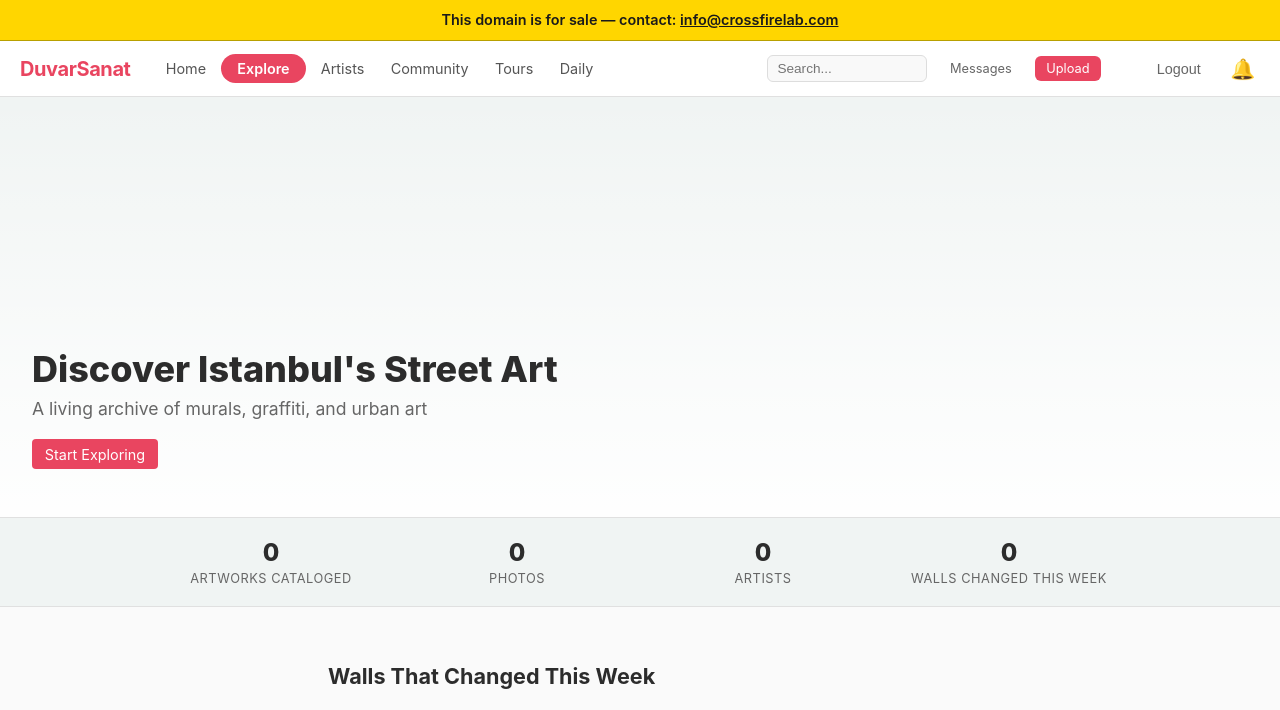
Test: Layout - authenticated › logs out when Logout button is clicked
Step 1. Click the button "Logout" → (1179, 69), box [1144,54,1213,83]
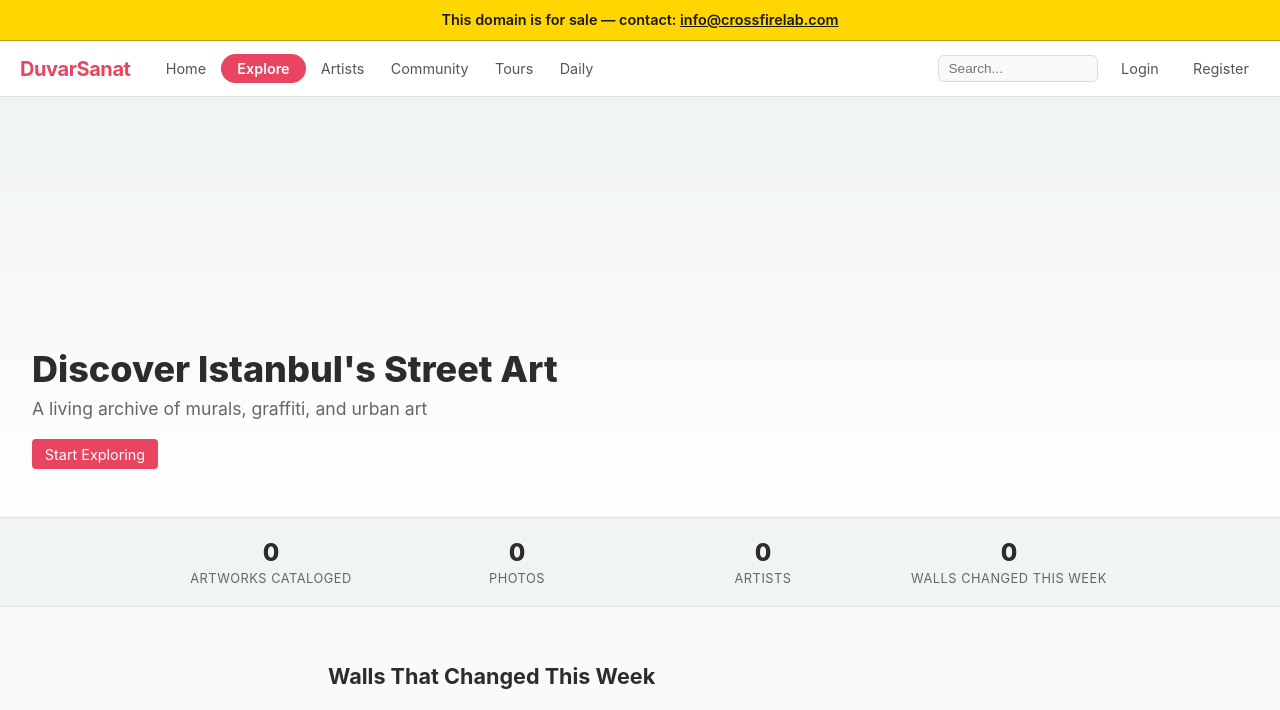
Now the link "Login" is shown, box [1121,60,1159,77]
Now the link "Register" is shown, box [1193,60,1249,77]
